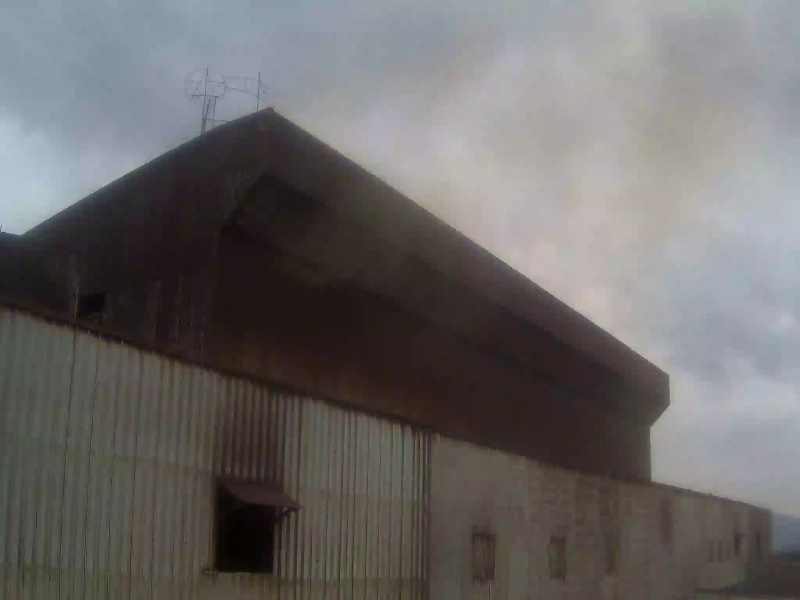bom: (1, 2, 276, 268)
ruim: (336, 9, 663, 353)
